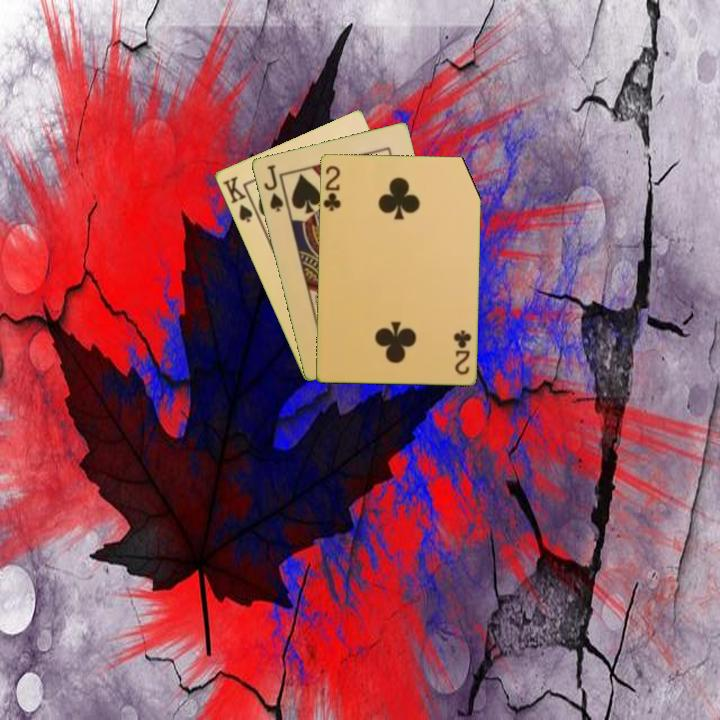2c: (320, 162, 343, 214), (451, 326, 474, 377)
Js: (260, 161, 286, 215)
Ks: (219, 172, 260, 225)
